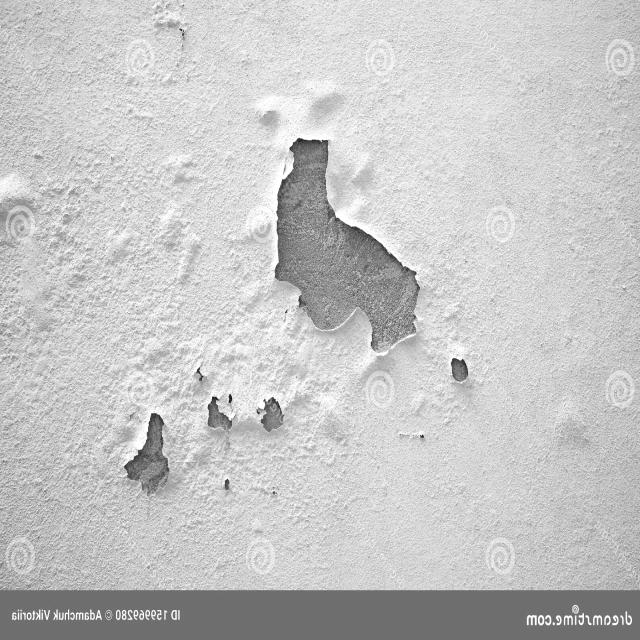peeling paint: (119, 134, 478, 505)
